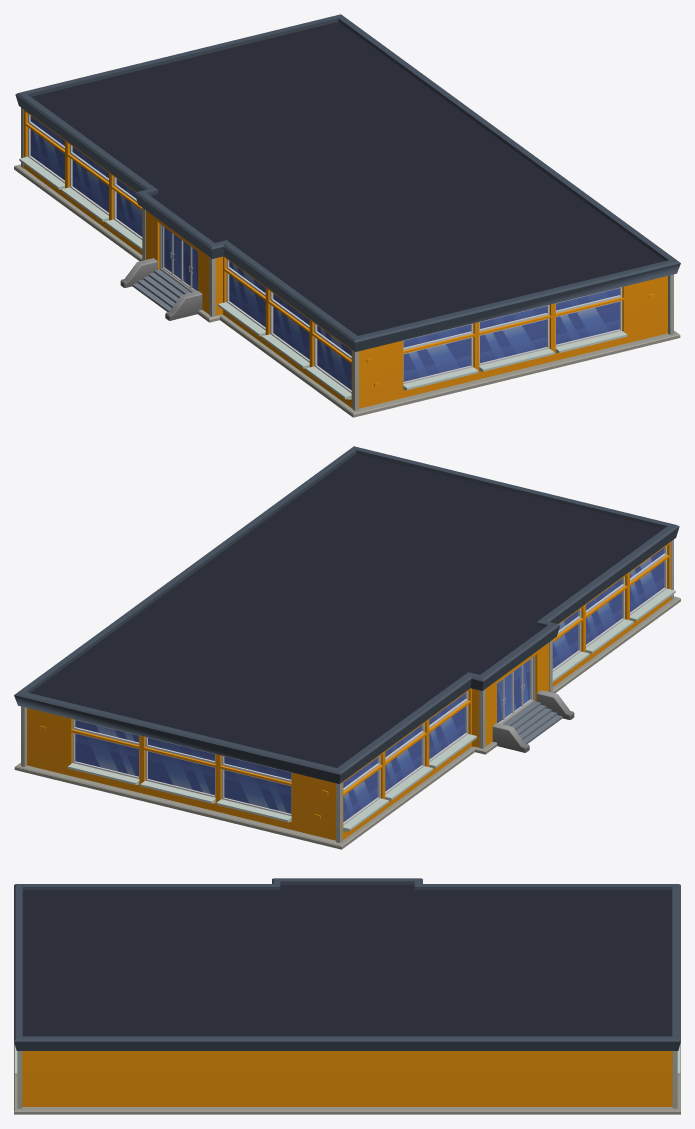
The model's file is Building_16_1_I.fbx.
The picture shows the model from 3 angles, top to bottom: view 1: azimuth 30°, elevation 25°; view 2: azimuth 150°, elevation 25°; view 3: azimuth 270°, elevation 25°; orthographic projection.
Visible parts, largest first — view 1: Building_16_1_I; view 2: Building_16_1_I; view 3: Building_16_1_I.
Part boxes in pixels (x1,y1,x2,y2): Building_16_1_I: (14, 14, 680, 417); Building_16_1_I: (14, 446, 680, 849); Building_16_1_I: (14, 878, 680, 1114).
Bounding box in the file's own units: 1888 × 375 × 3026.
